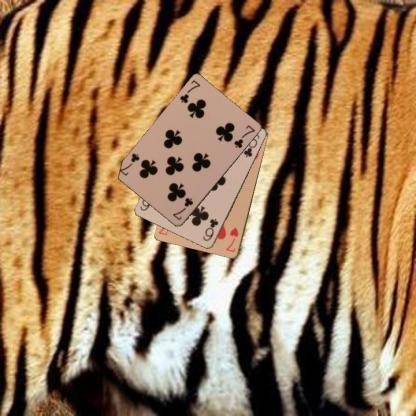6c: (200, 216, 219, 243)
7c: (177, 78, 202, 106), (170, 195, 195, 222)
7h: (223, 224, 240, 254)
